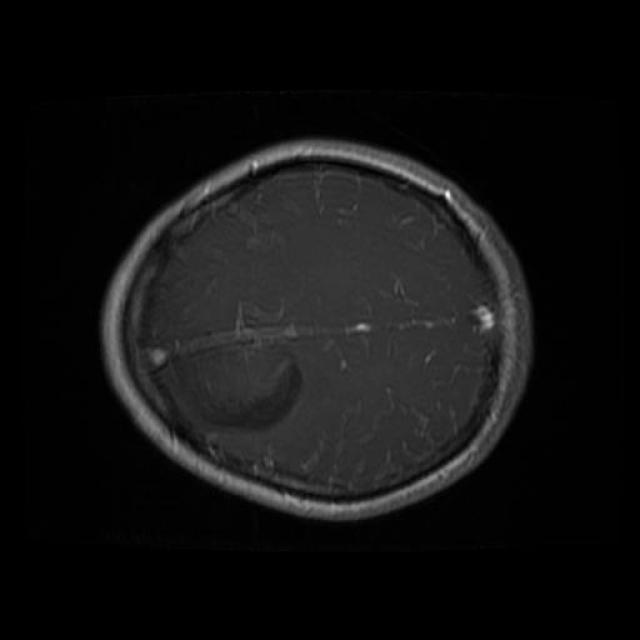Glioma: (211, 359, 302, 428)
